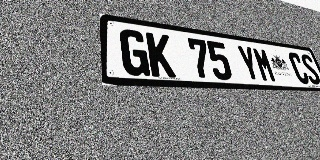5: (206, 40, 234, 80)
7: (186, 38, 215, 79)
C: (287, 52, 311, 84)
G: (119, 28, 150, 76)
K: (146, 32, 176, 78)
M: (251, 47, 277, 82)
S: (299, 53, 320, 85)
Y: (236, 45, 262, 82)
